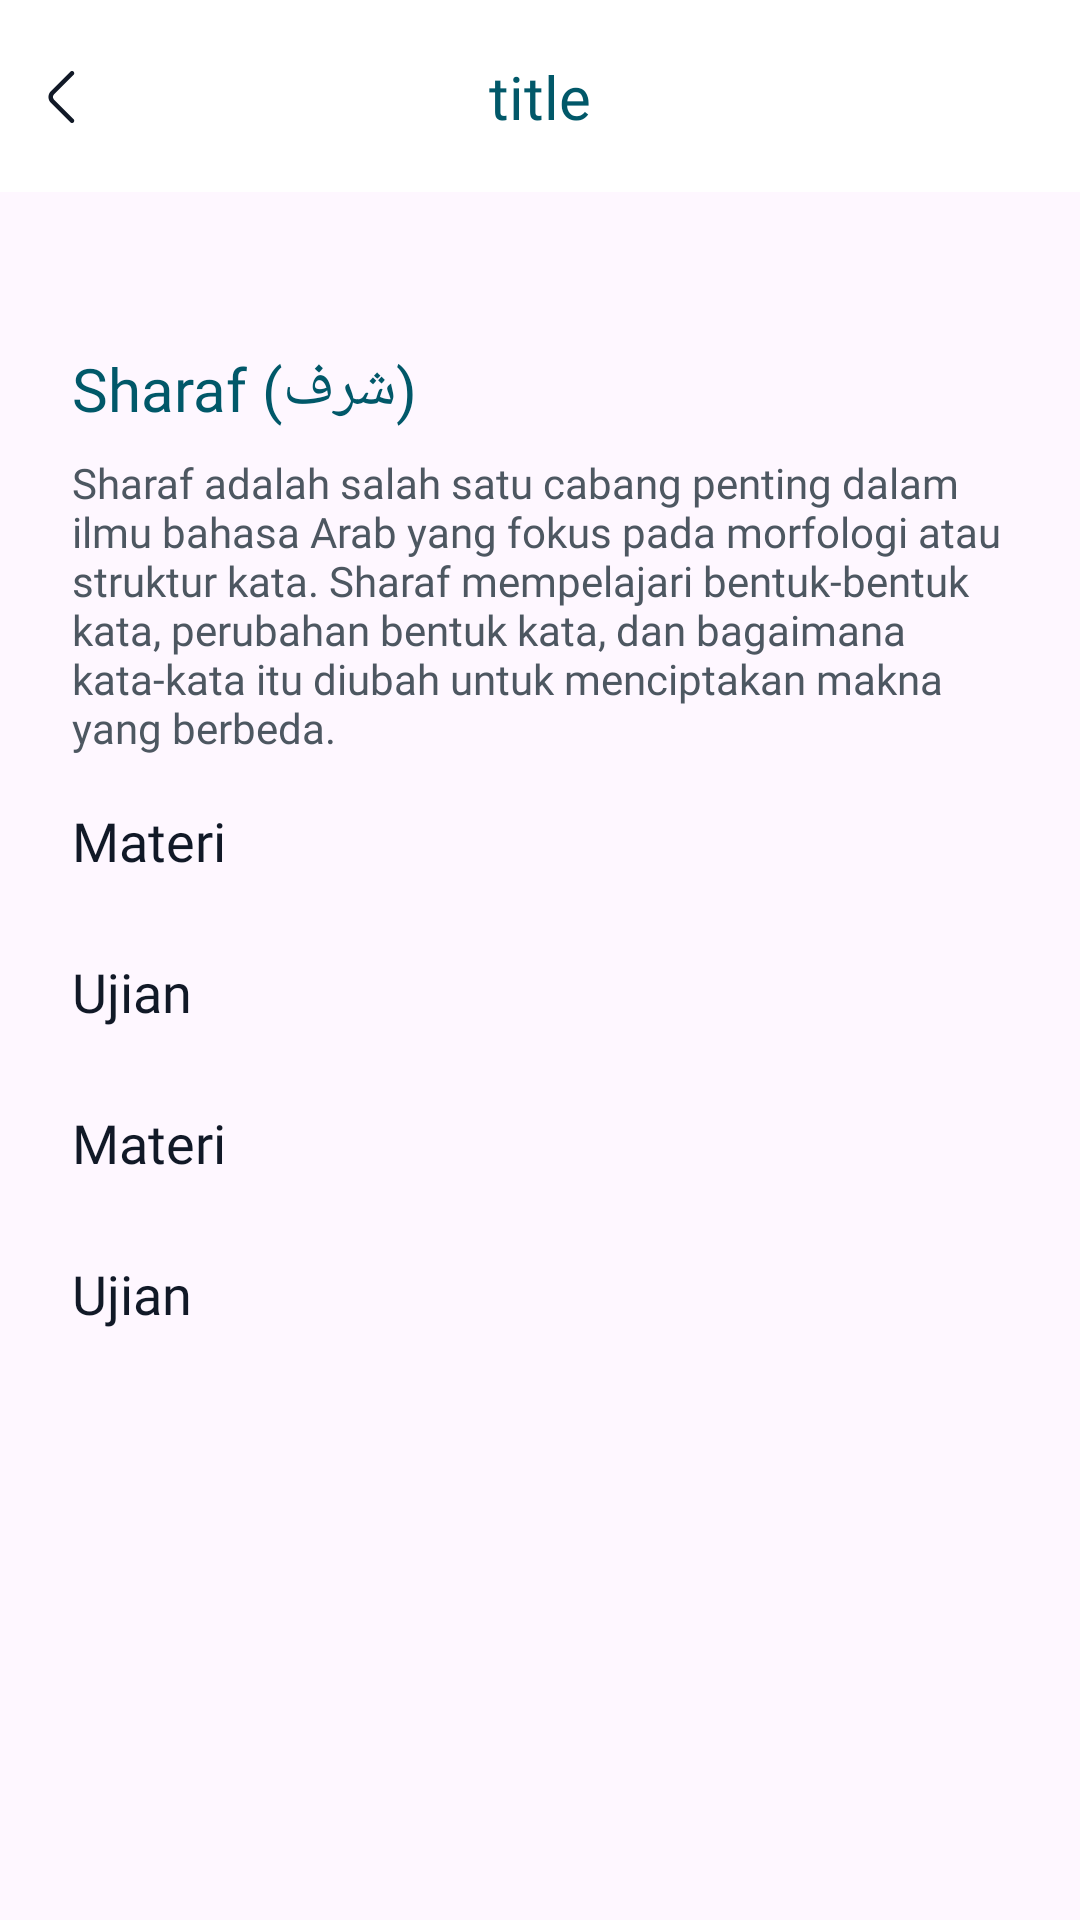

Screen size 1080px x 1920px. Icon name, then its center in pixels as [x,y]:
back: [61,97]
